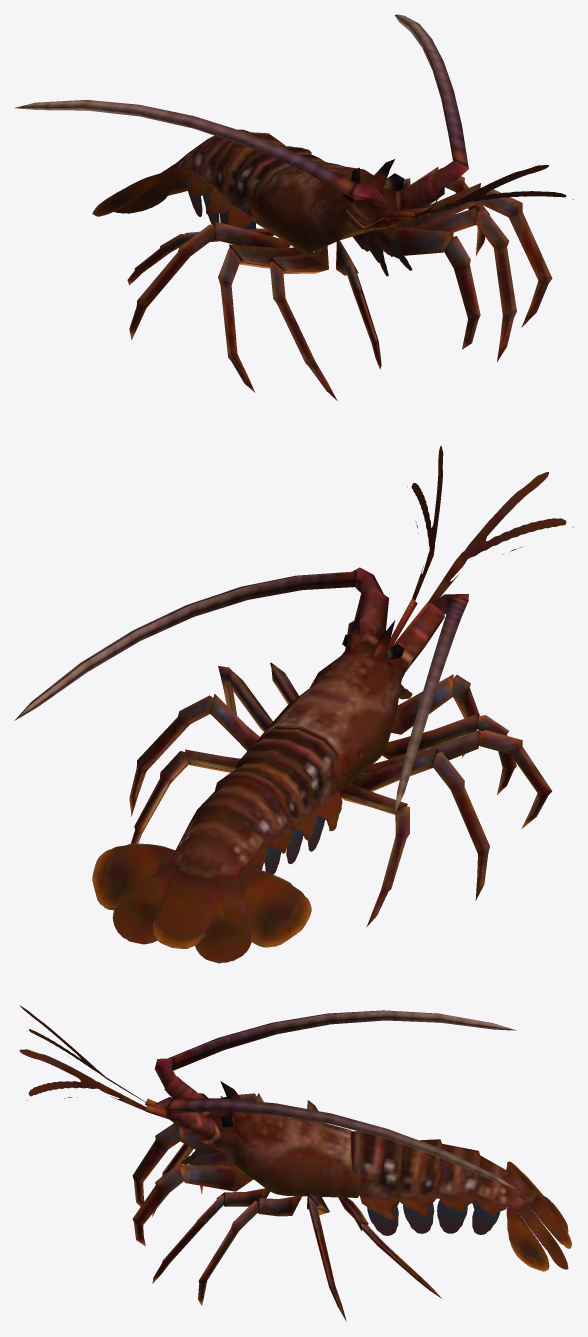
Rendered from spiny-lobster.glb.
3 views of the same model, one above another, from view 1: azimuth 30°, elevation 25°; view 2: azimuth 150°, elevation 25°; view 3: azimuth 270°, elevation 25° (orthographic). The views are drawn at different scales.
Size of the model in its own units: 7.6 by 5.26 by 11.32.
Materials: 1 (1 with a texture image).
